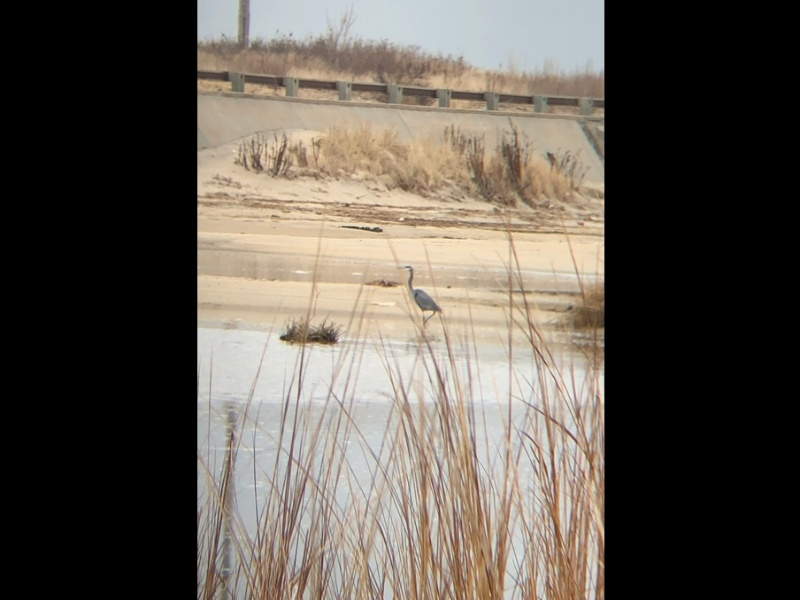heron: (400, 264, 446, 320)
